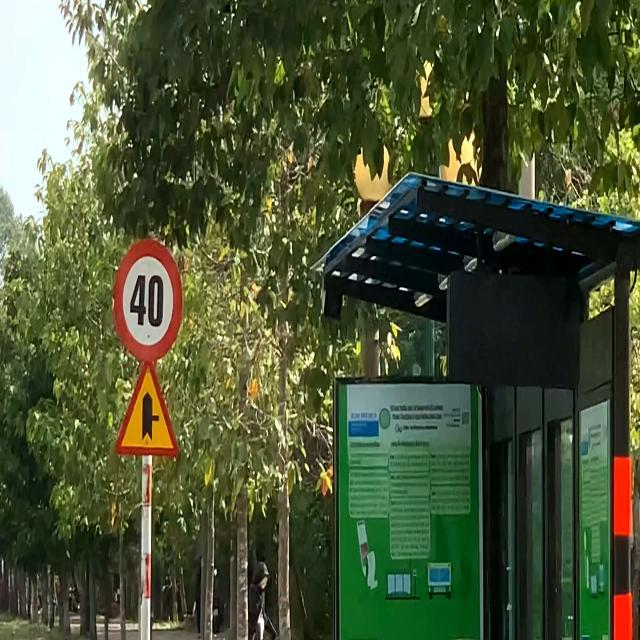Giao nhau voi duong khong uu tien ben phai: (112, 358, 184, 461)
Toc do toi da cho phep: (114, 237, 184, 360)
